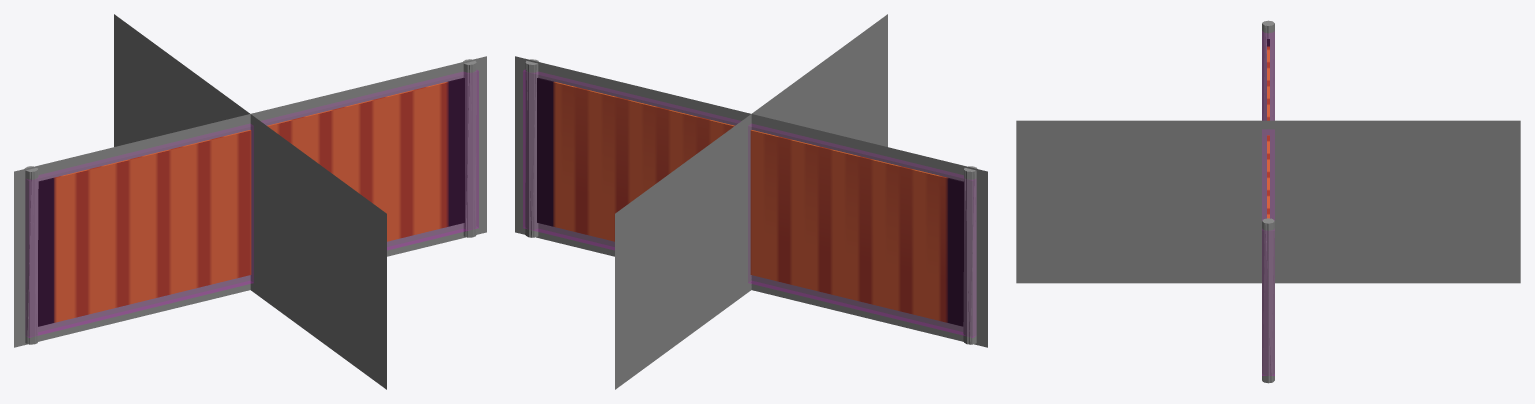
Rendered from ribbon_orange_3m.dae.
3 views of the same model, side by side, from view 1: azimuth 30°, elevation 25°; view 2: azimuth 150°, elevation 25°; view 3: azimuth 270°, elevation 25° (orthographic). The views are drawn at different scales.
Visible parts, largest first — view 1: ribbon_orange_3m_a800, Colmesh_panel-1, ribbon_orange_3m_a50, ribbon_orange_3m_a200; view 2: ribbon_orange_3m_a800, Colmesh_panel-1, ribbon_orange_3m_a50, ribbon_orange_3m_a200; view 3: ribbon_orange_3m_a50, Colmesh_panel-1, ribbon_orange_3m_a800, ribbon_orange_3m_a200.
Part boxes in pixels (x1,y1,x2,y2): ribbon_orange_3m_a800: (24,59,476,344); Colmesh_panel-1: (26,70,478,337); ribbon_orange_3m_a50: (14,14,486,389); ribbon_orange_3m_a200: (26,59,476,344); ribbon_orange_3m_a800: (525,59,977,344); Colmesh_panel-1: (523,70,975,337); ribbon_orange_3m_a50: (515,14,987,389); ribbon_orange_3m_a200: (525,60,976,344); ribbon_orange_3m_a50: (1016,120,1520,283); Colmesh_panel-1: (1262,32,1274,375); ribbon_orange_3m_a800: (1262,20,1274,383); ribbon_orange_3m_a200: (1262,21,1274,382).
Size of the model in its own units: 3.15 by 3.15 by 1.12.
Materials: 3 (1 with a texture image).
